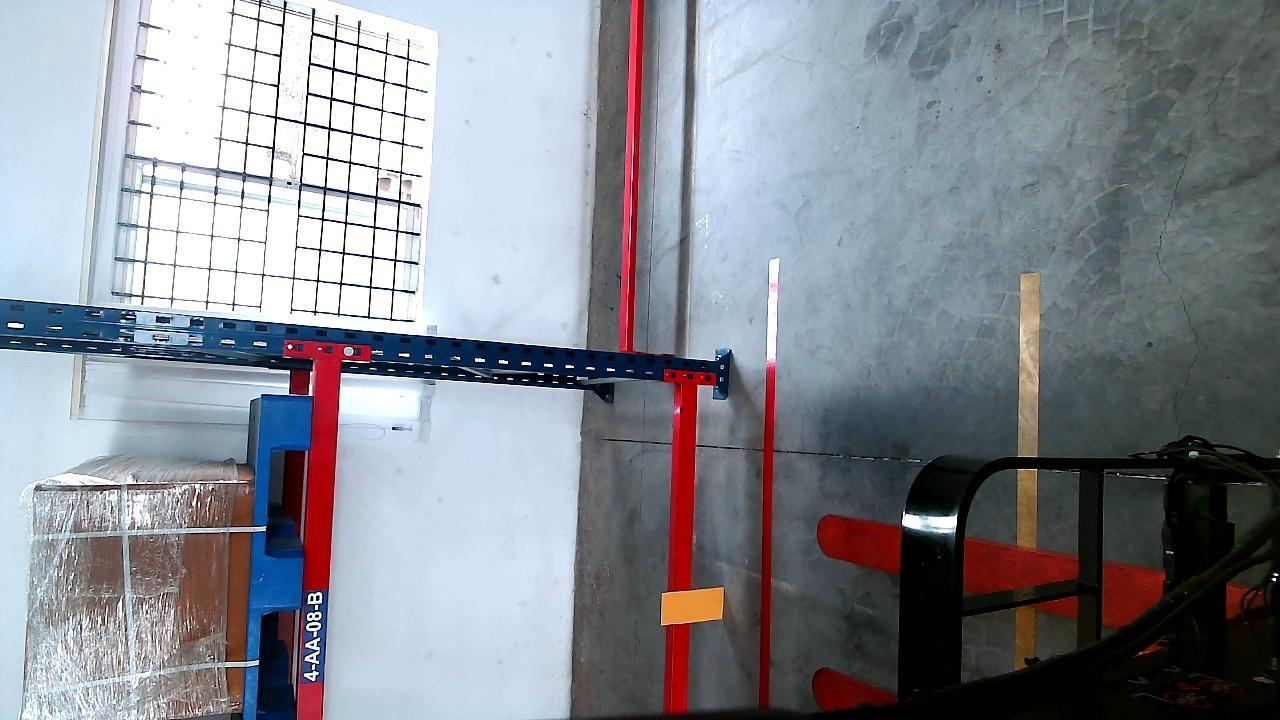red_line: (757, 259, 780, 712)
yellow_line: (1018, 261, 1040, 563)
